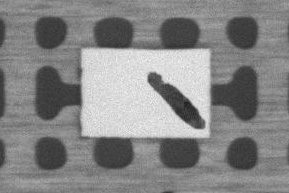DIE_INK: (142, 69, 210, 134)
